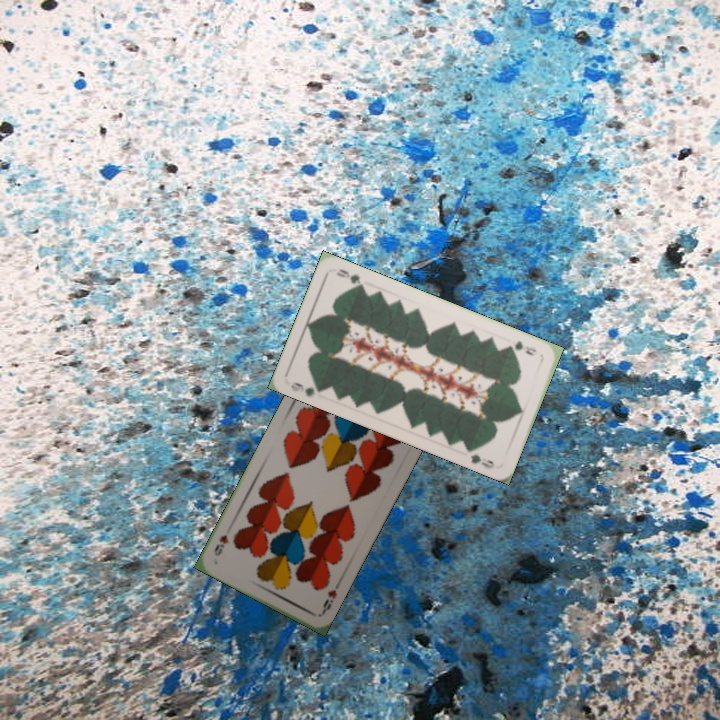G9: (287, 378, 326, 400), (503, 336, 539, 359)
H9: (317, 585, 339, 617)
